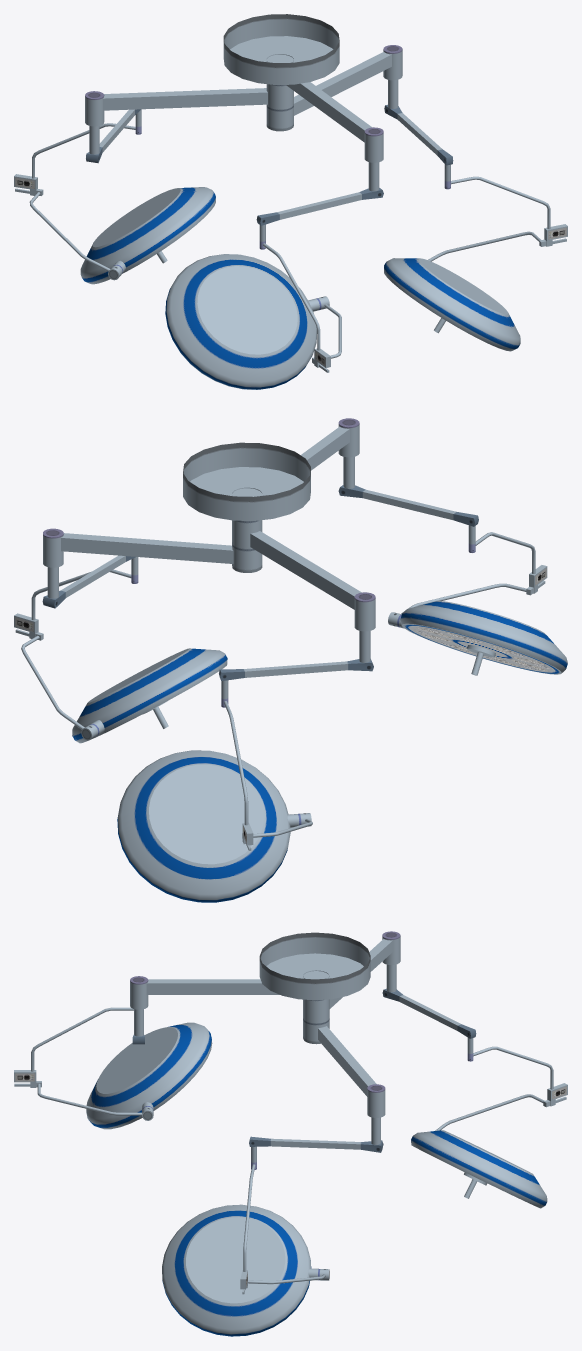
Rendered from operating light1.FBX.
The picture shows the model from 3 angles, top to bottom: view 1: azimuth 30°, elevation 25°; view 2: azimuth 150°, elevation 25°; view 3: azimuth 270°, elevation 25°; orthographic projection. The views are drawn at different scales.
Visible parts, largest first — view 1: operating light1; view 2: operating light1; view 3: operating light1.
Part boxes in pixels (<box>): operating light1: <box>14,14,567,389</box>; operating light1: <box>14,418,567,902</box>; operating light1: <box>14,931,567,1336</box>.
Size of the model in its own units: 87.78 by 99.86 by 59.11.
